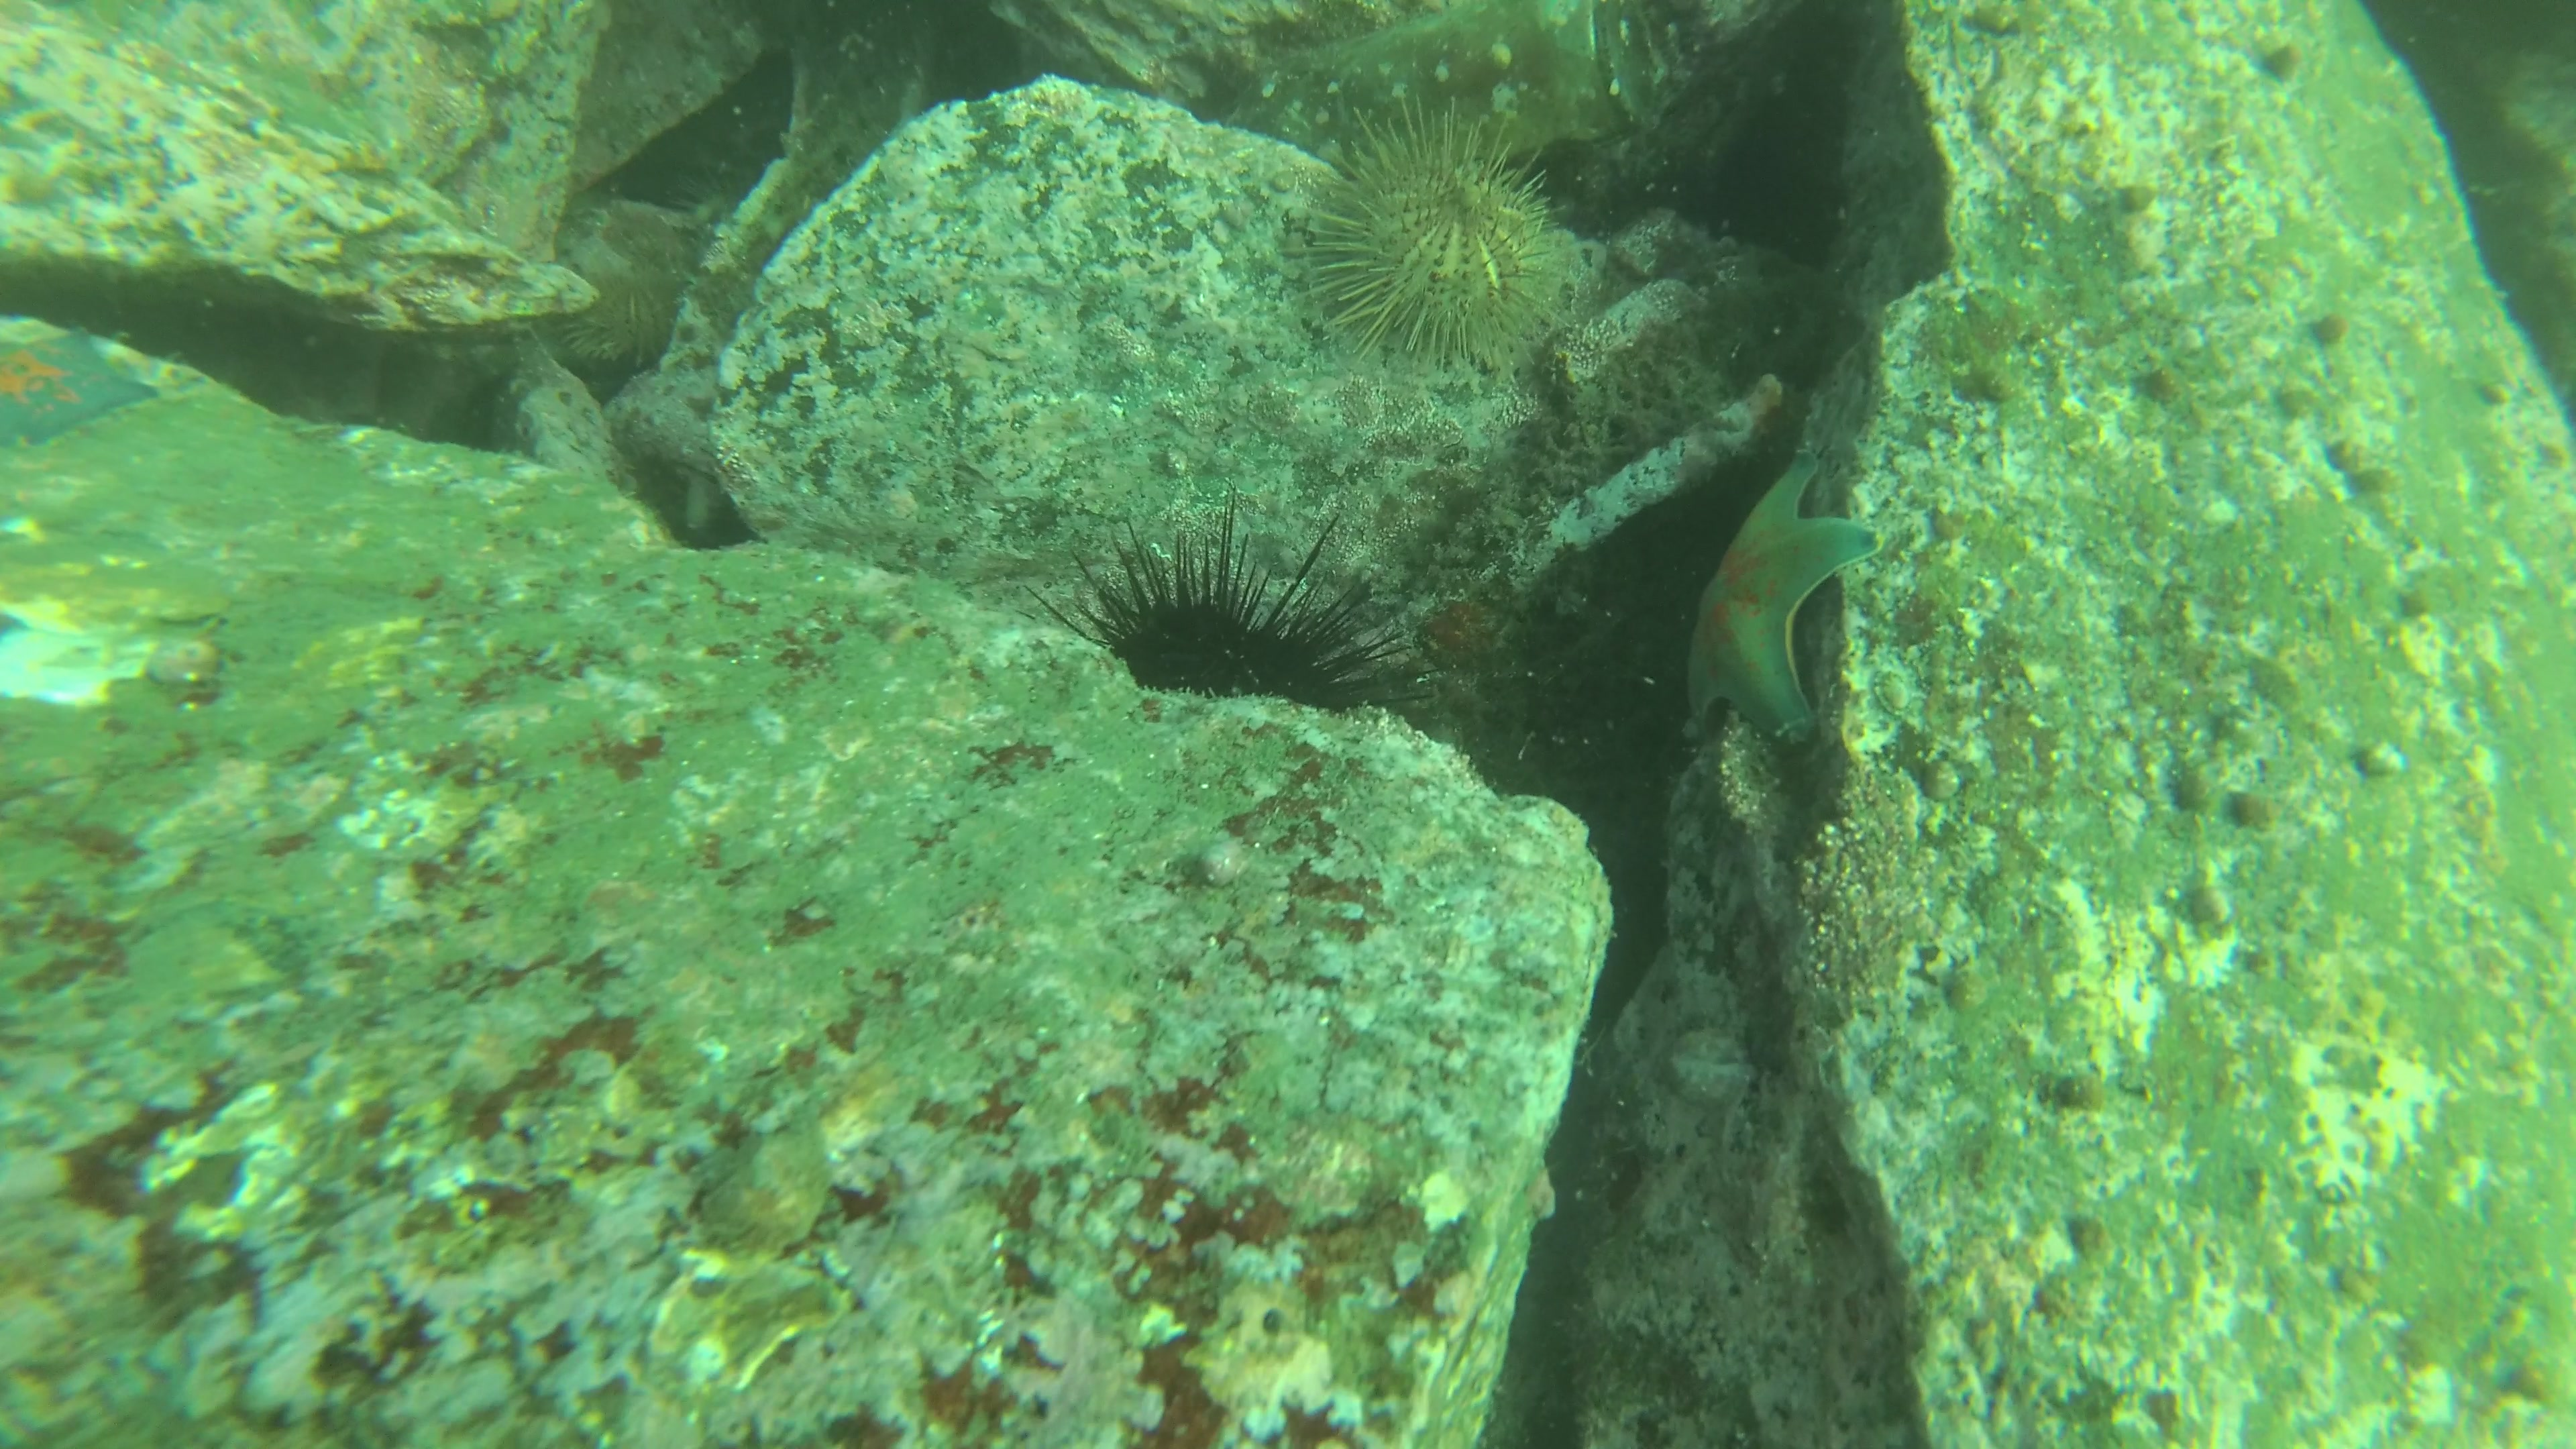echinus: (1065, 511, 1424, 748), (1311, 101, 1566, 368), (556, 260, 692, 361)
starfish: (1672, 448, 1881, 750), (0, 318, 161, 456)
